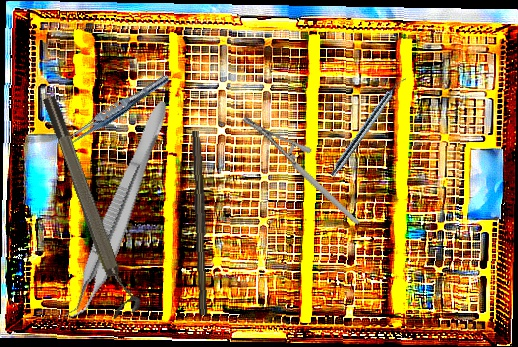Fixation Ring: (38, 91, 144, 319)
Handpiece: (328, 73, 408, 180)
Needle Holder: (239, 90, 361, 251)
Scalpel Handle: (189, 130, 213, 316)
Tissue Forceps: (62, 94, 172, 327), (58, 68, 173, 154)
